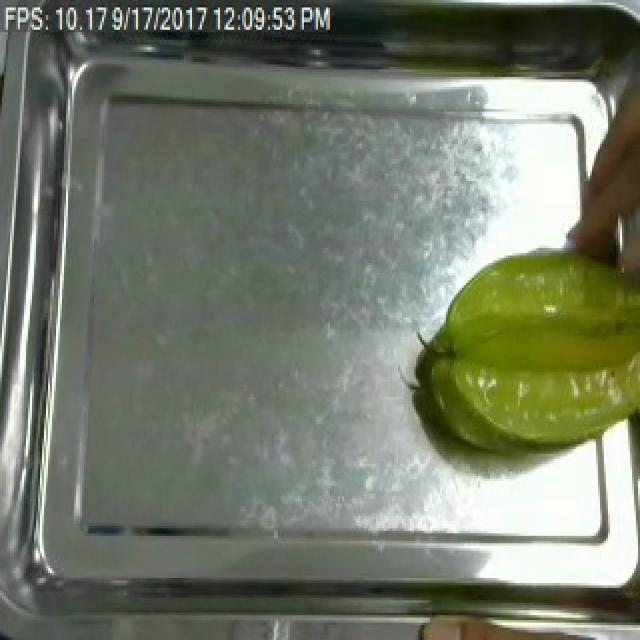fruit: (424, 238, 640, 462)
